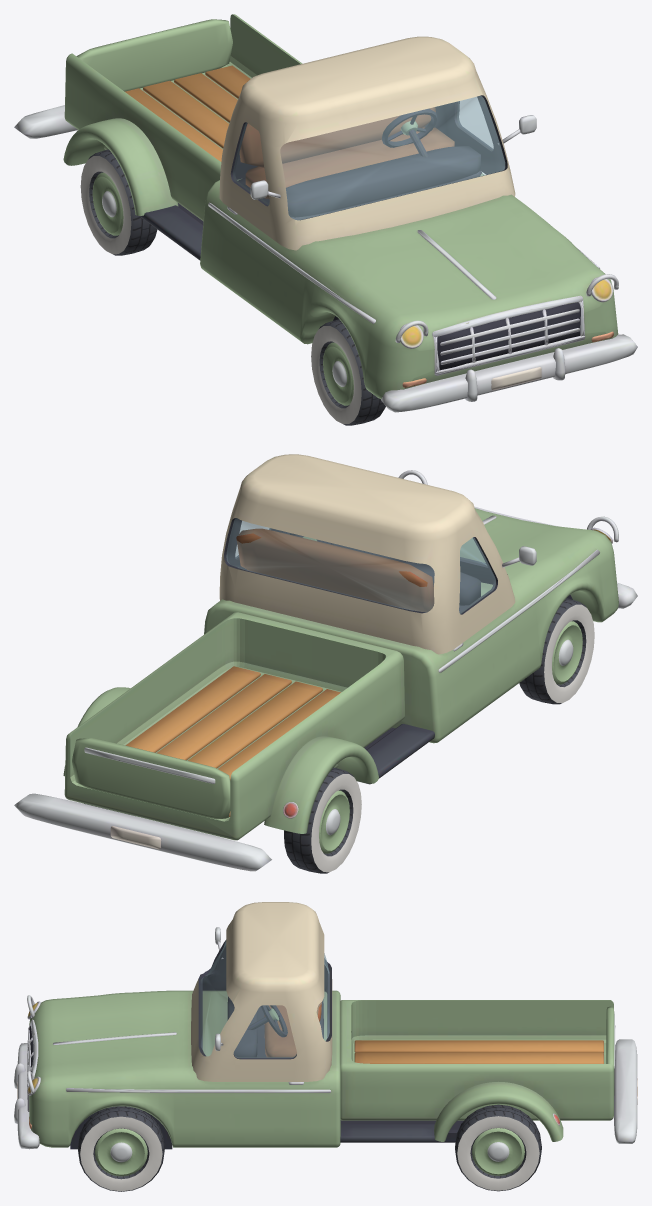
Rendered from 1950s-pickup-truck.glb.
The picture shows the model from 3 angles, top to bottom: view 1: azimuth 30°, elevation 25°; view 2: azimuth 150°, elevation 25°; view 3: azimuth 270°, elevation 25°; orthographic projection. The views are drawn at different scales.
Visible parts, largest first — view 1: 1950s-pickup-truck_body, 1950s-pickup-truck_windows, 1950s-pickup-truck_tailgate, 1950s-pickup-truck_wheel_rr, 1950s-pickup-truck_wheel_fr; view 2: 1950s-pickup-truck_body, 1950s-pickup-truck_windows, 1950s-pickup-truck_tailgate, 1950s-pickup-truck_wheel_rr, 1950s-pickup-truck_wheel_fr; view 3: 1950s-pickup-truck_body, 1950s-pickup-truck_wheel_rl, 1950s-pickup-truck_wheel_fl, 1950s-pickup-truck_windows, 1950s-pickup-truck_tailgate.
Part boxes in pixels (<box>): 1950s-pickup-truck_body: <box>14,14,637,412</box>; 1950s-pickup-truck_windows: <box>233,96,504,219</box>; 1950s-pickup-truck_tailgate: <box>76,19,232,91</box>; 1950s-pickup-truck_wheel_rr: <box>80,149,157,255</box>; 1950s-pickup-truck_wheel_fr: <box>311,319,385,425</box>; 1950s-pickup-truck_body: <box>14,454,637,871</box>; 1950s-pickup-truck_windows: <box>226,518,495,613</box>; 1950s-pickup-truck_tailgate: <box>72,738,230,819</box>; 1950s-pickup-truck_wheel_rr: <box>284,767,361,873</box>; 1950s-pickup-truck_wheel_fr: <box>519,598,594,704</box>; 1950s-pickup-truck_body: <box>14,902,637,1149</box>; 1950s-pickup-truck_wheel_rl: <box>455,1104,541,1191</box>; 1950s-pickup-truck_wheel_fl: <box>77,1106,164,1191</box>; 1950s-pickup-truck_windows: <box>200,940,329,1057</box>; 1950s-pickup-truck_tailgate: <box>606,1006,615,1095</box>.
Size of the model in its own units: 2.26 by 1.94 by 5.29.
24 materials, 5 textured.
